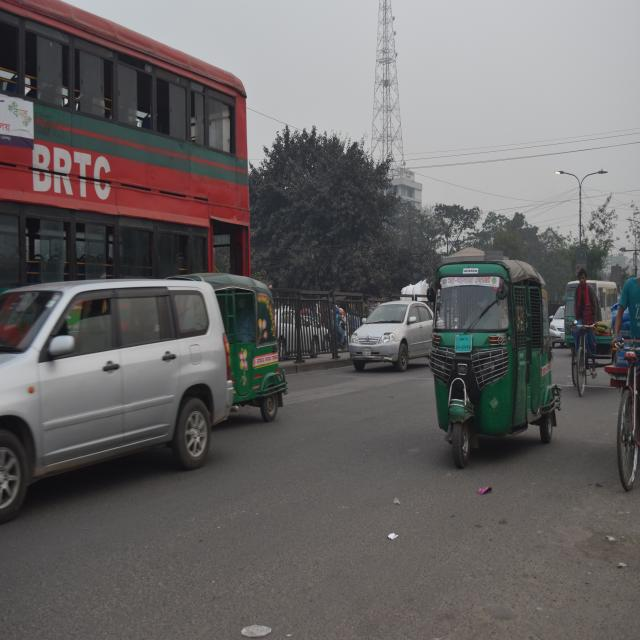bus: (0, 0, 260, 317), (566, 271, 618, 327)
car: (0, 266, 242, 521), (350, 293, 434, 375), (548, 298, 568, 352)
